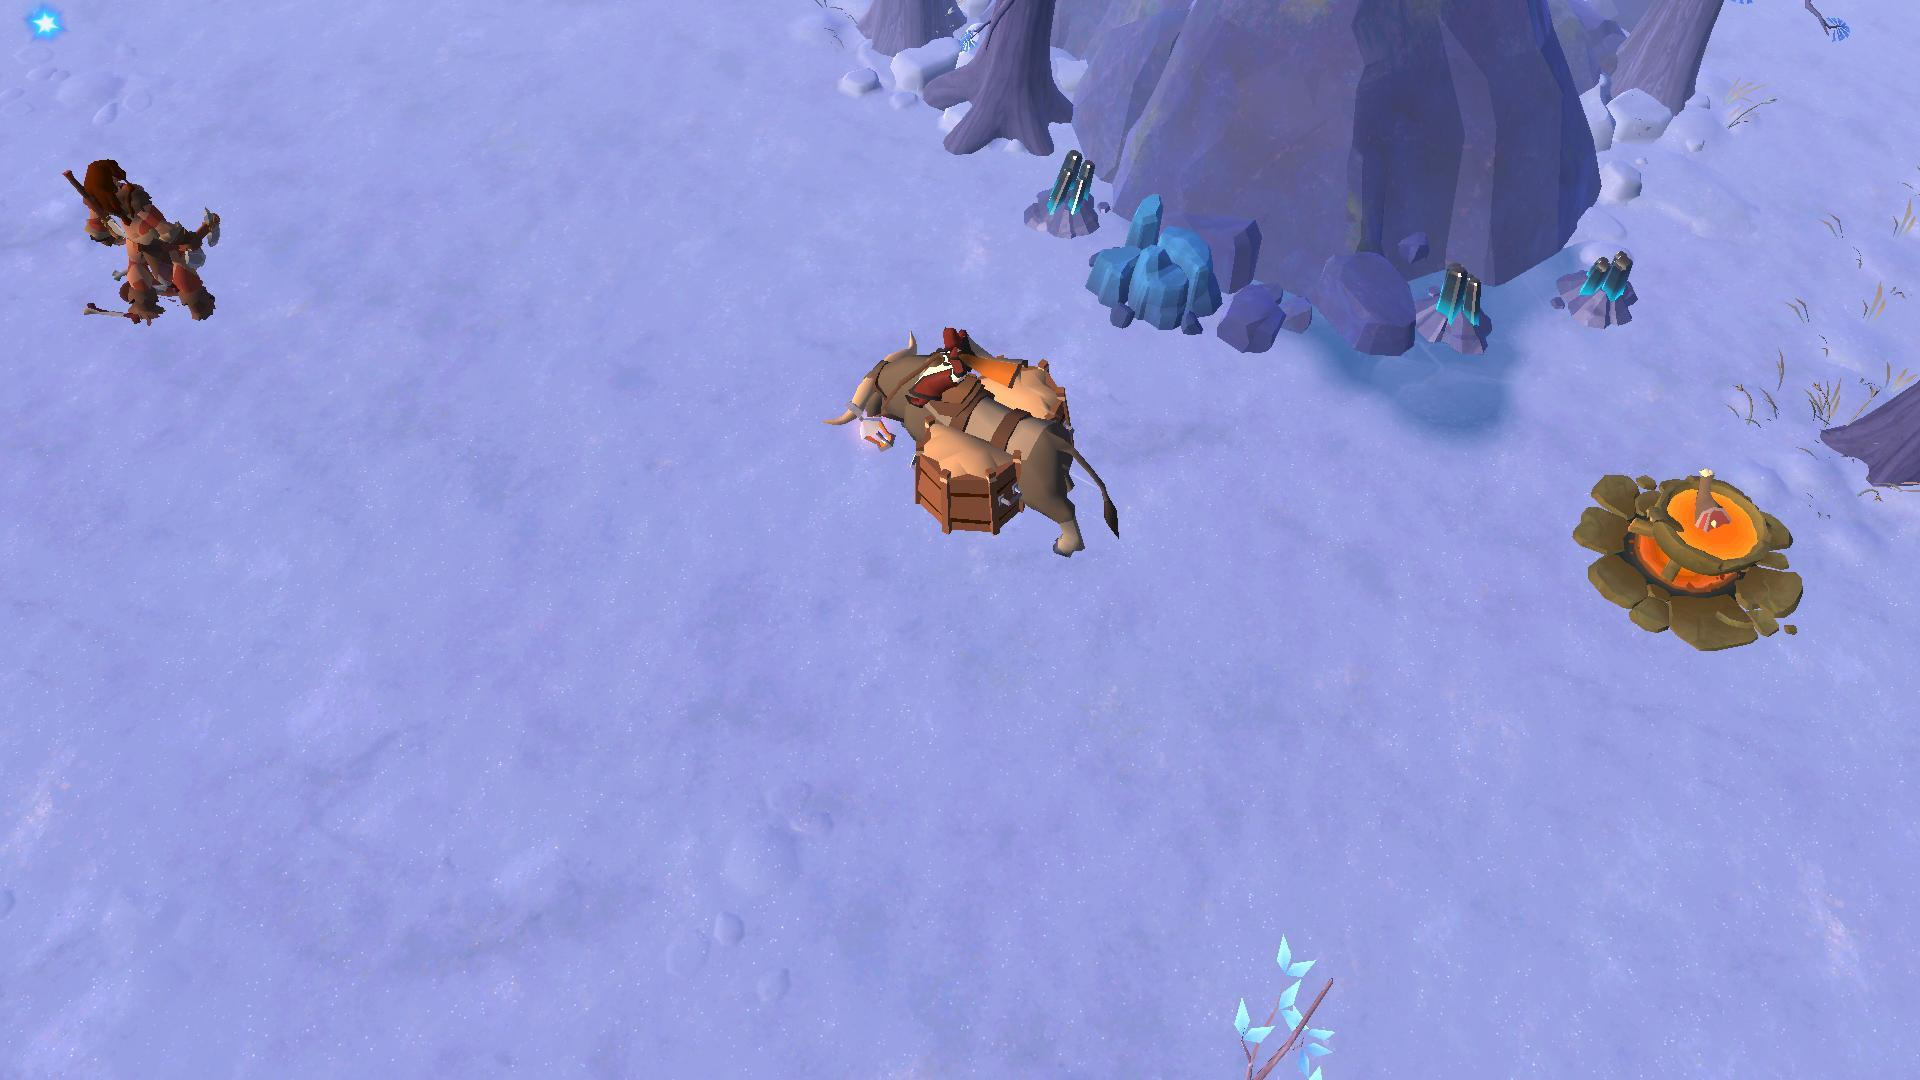enemy_factionKeeper: (67, 158, 225, 327)
ore_t4: (1427, 256, 1486, 331), (1569, 244, 1634, 309), (1044, 144, 1096, 222)
rock_t4: (1077, 193, 1225, 334)
